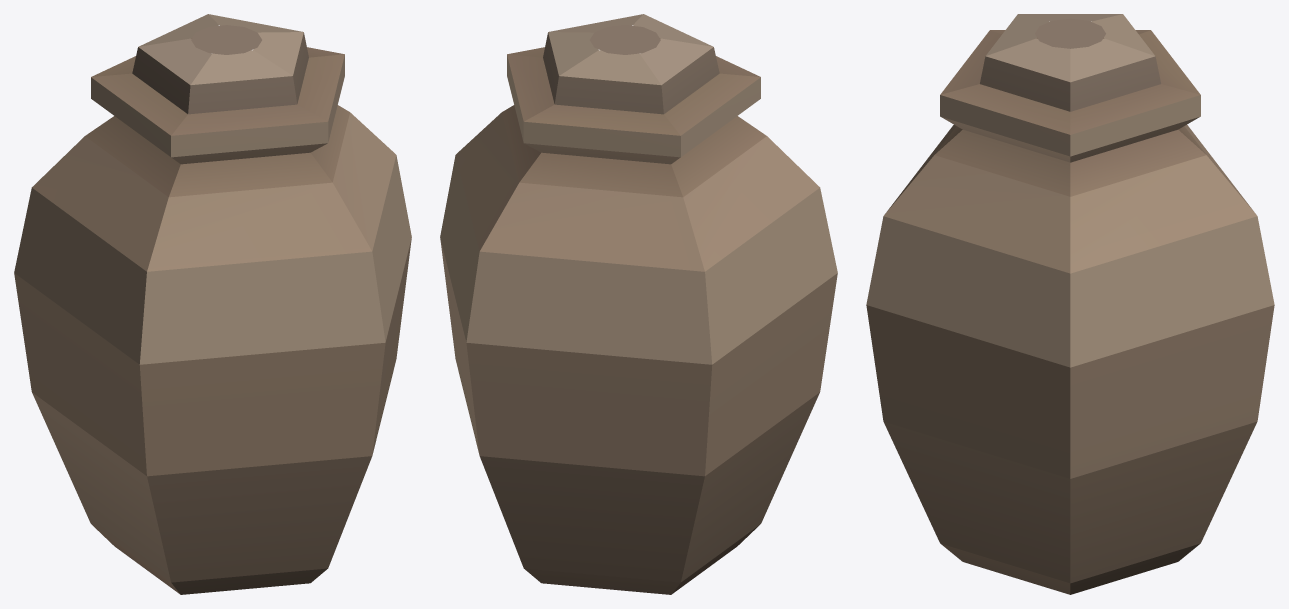
The model's file is jar.lod2.glb.
3 renders of one model, left to right at view 1: azimuth 30°, elevation 25°; view 2: azimuth 150°, elevation 25°; view 3: azimuth 270°, elevation 25°, orthographic.
Bounding box in the file's own units: 0.6512 × 0.95 × 0.6848.
